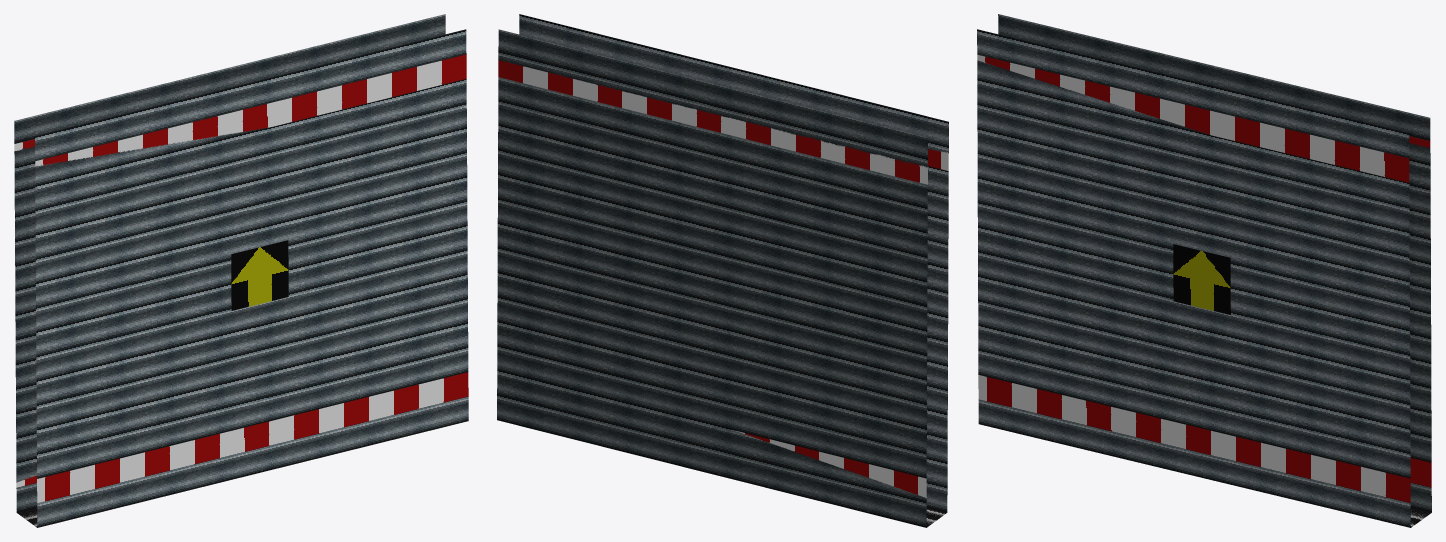
File: primary_36.glb
The picture shows the model from 3 angles, left to right: view 1: azimuth 30°, elevation 25°; view 2: azimuth 150°, elevation 25°; view 3: azimuth 330°, elevation 25°; orthographic projection.
Visible parts, largest first — view 1: Object; view 2: Object; view 3: Object.
Boxes of the visible parts, x1,y1,x2,y2 form: Object: (14, 14, 468, 527); Object: (497, 14, 948, 527); Object: (977, 14, 1431, 527).
Bounding box in the file's own units: 4.7 × 4.09 × 0.4127.
6 materials, 6 textured.
